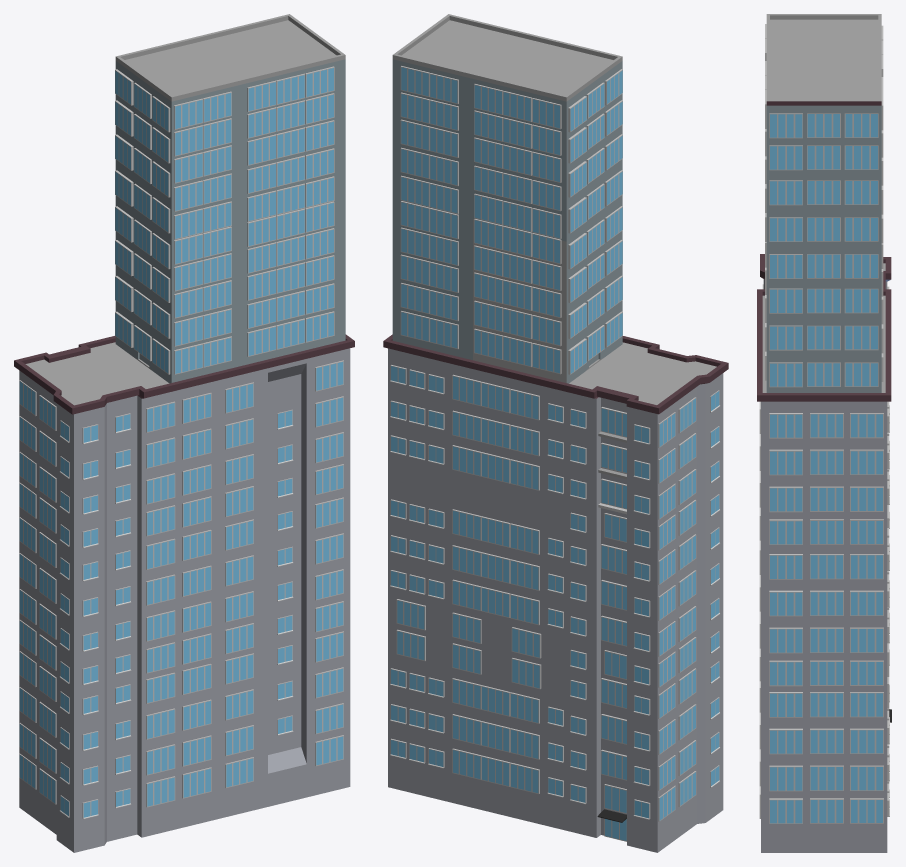
The model's file is SkyScraper_3.fbx.
3 views of the same model, side by side, from view 1: azimuth 30°, elevation 25°; view 2: azimuth 150°, elevation 25°; view 3: azimuth 270°, elevation 25° (orthographic). The views are drawn at different scales.
Parts seen in each view (by area): view 1: Appartment; view 2: Appartment; view 3: Appartment.
Boxes of the visible parts, box(x1,y1,x2,y2) form: Appartment: box(14, 14, 354, 852); Appartment: box(383, 14, 728, 852); Appartment: box(757, 14, 891, 852).
Size of the model in its own units: 36.94 by 91.68 by 14.92.
